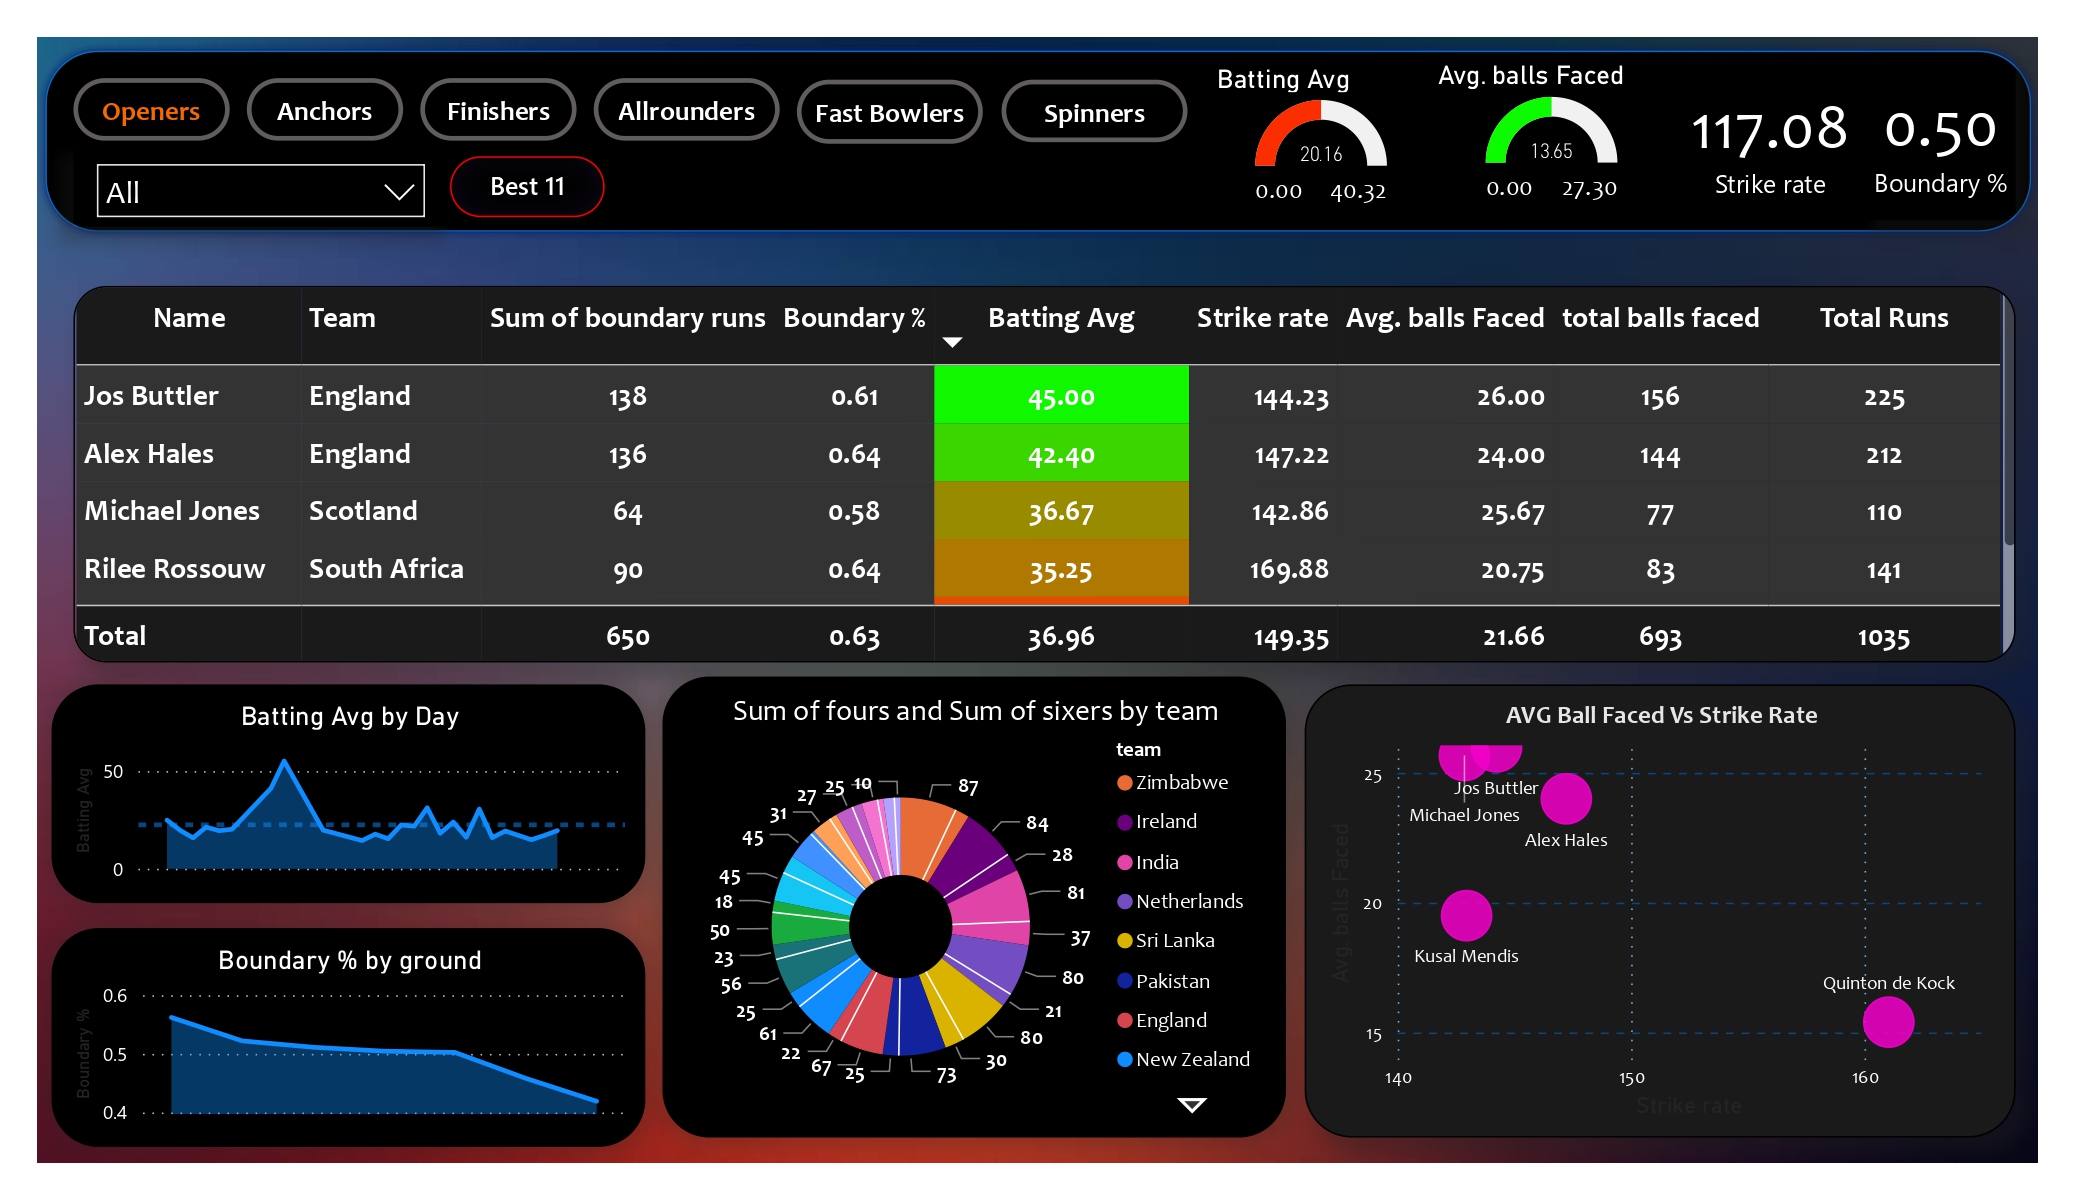

What the dashboard file says about the page in this screenshot:
{"tool":"powerbi","page":{"name":"Power hitters/Openers","canvas":[1280,720],"ordinal":0},"visuals":[{"type":"tableEx","fields":{"Values":["dim_players.name","dim_players.team","Sum(fact_batting_summary.boundary runs)","Key_measures.Boundary %","Key_measures.Batting Avg","Key_measures.Strike rate","Key_measures.Avg. balls Faced","Key_measures.total balls faced","Key_measures.Total Runs"]},"box":[23.4,158.5,1242.1,241.7],"z":0},{"type":"scatterChart","title":"AVG Ball Faced Vs Strike Rate","fields":{"X":["Key_measures.Strike rate"],"Y":["Key_measures.Avg. balls Faced"],"Category":["fact_batting_summary.batsmanName"]},"box":[810.8,414.5,454.8,289.7],"z":1000},{"type":"shape","box":[0,2.8,1280.6,126.4],"z":2000},{"type":"gauge","fields":{"Y":["Key_measures.Batting Avg"]},"box":[749.5,15.5,143.2,101],"z":3000},{"type":"card","fields":{"Values":["Key_measures.Boundary %"]},"box":[1170.3,11.1,95.5,105.5],"z":4000},{"type":"gauge","fields":{"Y":["Key_measures.Avg. balls Faced"]},"box":[890.9,14.4,156.6,101],"z":5000},{"type":"card","fields":{"Values":["Key_measures.Strike rate"]},"box":[1045.6,10,126.6,109.9],"z":6000},{"type":"areaChart","fields":{"Category":["dim_match_summary.matchDate.Variation.Date Hierarchy.Day"],"Y":["Key_measures.Batting Avg"]},"box":[9.1,414.5,380,140],"z":7000},{"type":"areaChart","fields":{"Category":["dim_match_summary.ground"],"Y":["Key_measures.Boundary %"]},"box":[9.1,570.4,380,140],"z":8000},{"type":"actionButton","box":[23.4,26,100,40.3],"z":9000},{"type":"actionButton","box":[134.2,26,100,40.3],"z":10000},{"type":"actionButton","box":[244.9,26,100,40.3],"z":11000},{"type":"actionButton","box":[355.7,26,119.5,40.3],"z":12000},{"type":"actionButton","box":[485.9,27.3,119.5,40.3],"z":13000},{"type":"donutChart","fields":{"Y":["Sum(fact_batting_summary.fours)","Sum(fact_batting_summary.sixers)"],"Category":["dim_players.team"]},"box":[399.5,409.1,399.5,294.5],"z":14000},{"type":"actionButton","box":[616.9,26.8,118.9,40.1],"z":15000},{"type":"slicer","fields":{"Values":["dim_match_summary.stage"]},"box":[23.3,71.1,240,50],"z":16000},{"type":"actionButton","box":[264.3,76.2,98.8,39.3],"z":17000}]}

Visuals, with their boxes on the page's 1280x720 design canvas (x1, y1, x2, y2). These are canvas units, not pixel positions in the 2075x1200 screenshot, which may show the page scaled, cropped or inside an application window:
tableEx - dim_players.name x dim_players.team: detection(23, 158, 1266, 400)
"AVG Ball Faced Vs Strike Rate" scatterChart: detection(811, 414, 1266, 704)
shape: detection(0, 3, 1281, 129)
gauge - Key_measures.Batting Avg: detection(750, 16, 893, 116)
card - Key_measures.Boundary %: detection(1170, 11, 1266, 117)
gauge - Key_measures.Avg. balls Faced: detection(891, 14, 1048, 115)
card - Key_measures.Strike rate: detection(1046, 10, 1172, 120)
areaChart - dim_match_summary.matchDate.Variation.Date Hierarchy.Day x Key_measures.Batting Avg: detection(9, 414, 389, 554)
areaChart - dim_match_summary.ground x Key_measures.Boundary %: detection(9, 570, 389, 710)
actionButton: detection(23, 26, 123, 66)
actionButton: detection(134, 26, 234, 66)
actionButton: detection(245, 26, 345, 66)
actionButton: detection(356, 26, 475, 66)
actionButton: detection(486, 27, 605, 68)
donutChart - Sum(fact_batting_summary.fours) x Sum(fact_batting_summary.sixers): detection(400, 409, 799, 704)
actionButton: detection(617, 27, 736, 67)
slicer - dim_match_summary.stage: detection(23, 71, 263, 121)
actionButton: detection(264, 76, 363, 116)
